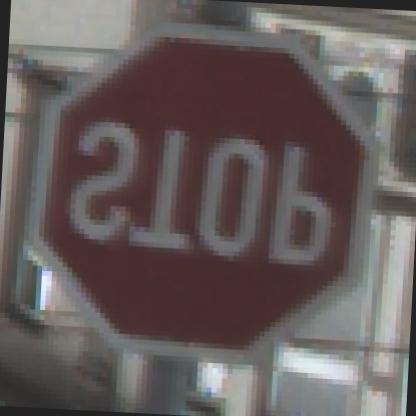stop: (6, 13, 386, 378)
